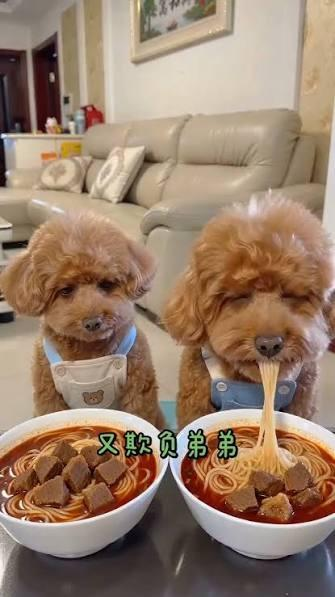adult_dog: (163, 186, 335, 423), (2, 211, 163, 432)
